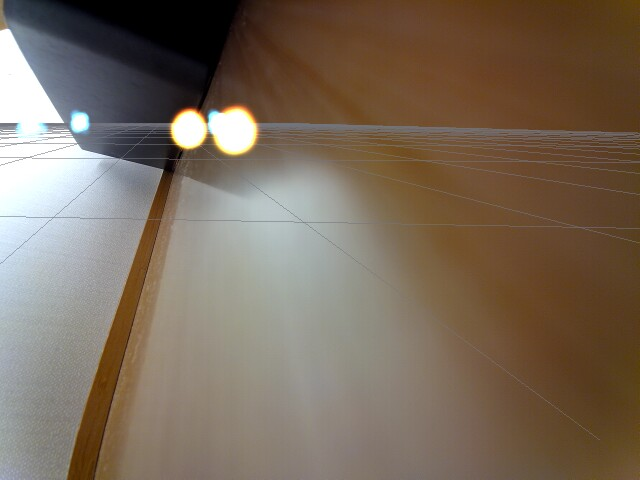firebig: (210, 99, 261, 163)
